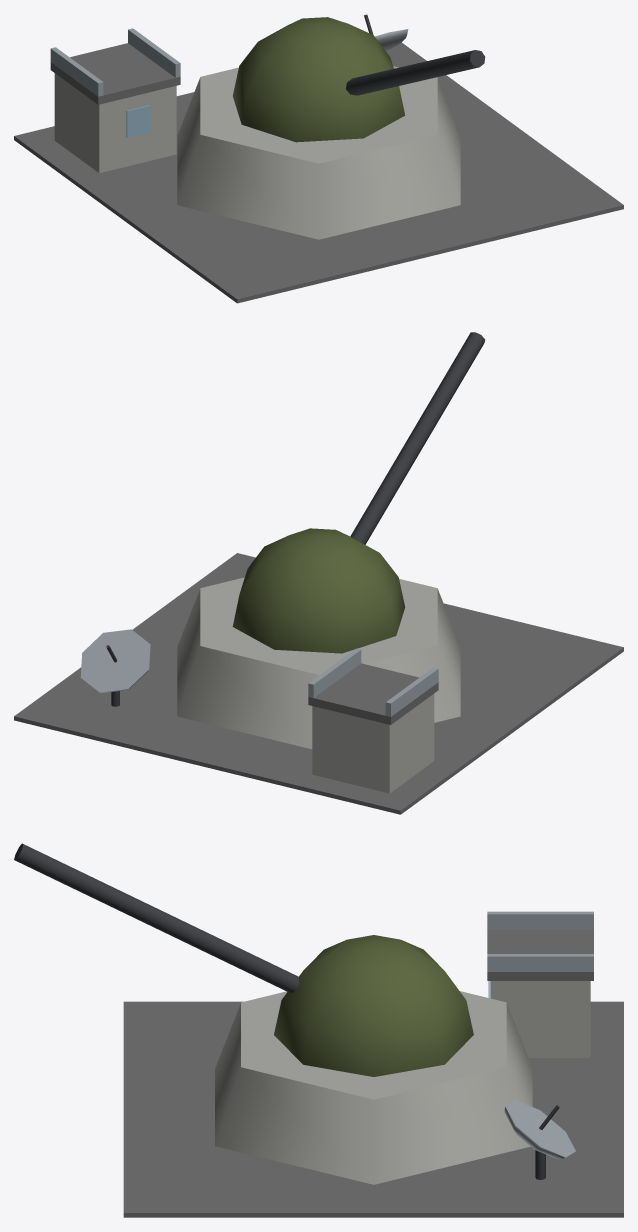
File: bld_special_planetary_defense_a07_lod1.glb
3 views of the same model, one above another, from view 1: azimuth 30°, elevation 25°; view 2: azimuth 150°, elevation 25°; view 3: azimuth 270°, elevation 25° (orthographic). The views are drawn at different scales.
Visible parts, largest first — view 1: body, turret, antenna; view 2: body, turret, antenna; view 3: body, turret, antenna.
Boxes of the visible parts, <box> form: body: <box>14,28,623,303</box>; turret: <box>233,17,485,142</box>; antenna: <box>364,14,408,50</box>; body: <box>14,553,623,814</box>; turret: <box>232,332,484,653</box>; antenna: <box>80,629,150,706</box>; body: <box>123,911,623,1217</box>; turret: <box>14,843,473,1076</box>; antenna: <box>504,1100,575,1179</box>.
Size of the model in its own units: 15 by 8.87 by 18.29.
